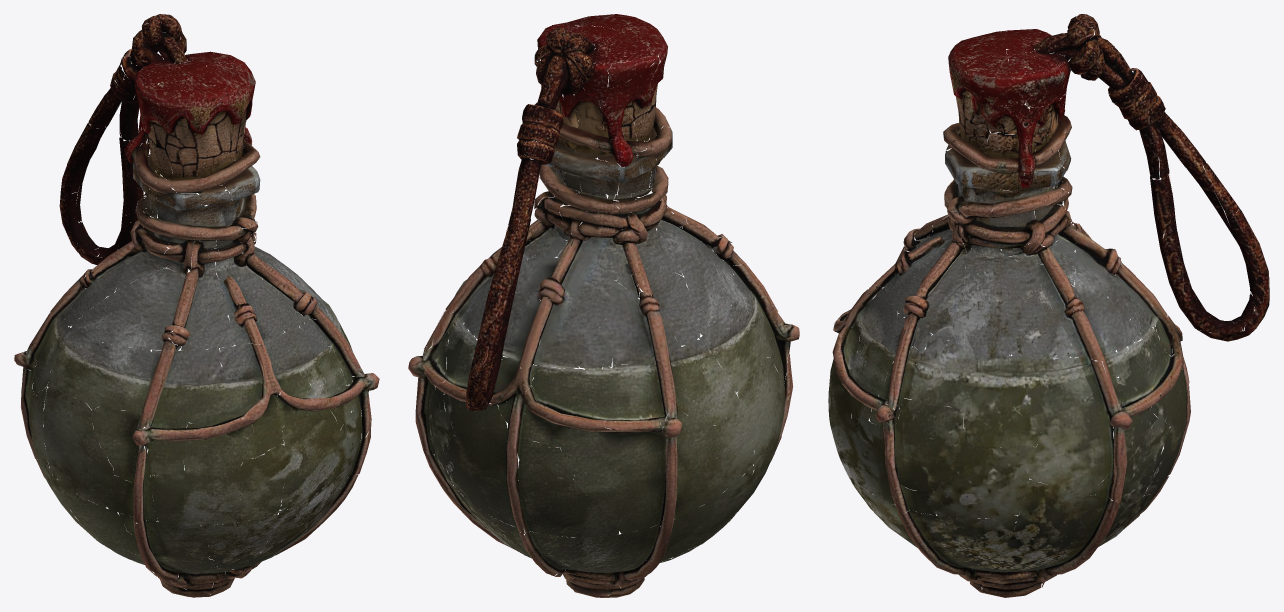
Rendered from w_sera_vial.glb.
The picture shows the model from 3 angles, left to right: view 1: azimuth 30°, elevation 25°; view 2: azimuth 150°, elevation 25°; view 3: azimuth 270°, elevation 25°; orthographic projection. The views are drawn at different scales.
Parts seen in each view (by area): view 1: tripo_node_961d0993-41d4-4aa4-8512-9bbf9dd5a042; view 2: tripo_node_961d0993-41d4-4aa4-8512-9bbf9dd5a042; view 3: tripo_node_961d0993-41d4-4aa4-8512-9bbf9dd5a042.
Boxes of the visible parts, x1,y1,x2,y2 form: tripo_node_961d0993-41d4-4aa4-8512-9bbf9dd5a042: [14, 14, 379, 597]; tripo_node_961d0993-41d4-4aa4-8512-9bbf9dd5a042: [408, 14, 799, 597]; tripo_node_961d0993-41d4-4aa4-8512-9bbf9dd5a042: [828, 14, 1269, 597].
Size of the model in its own units: 0.5515 by 0.9815 by 0.6934.
Materials: 1 (1 with a texture image).
